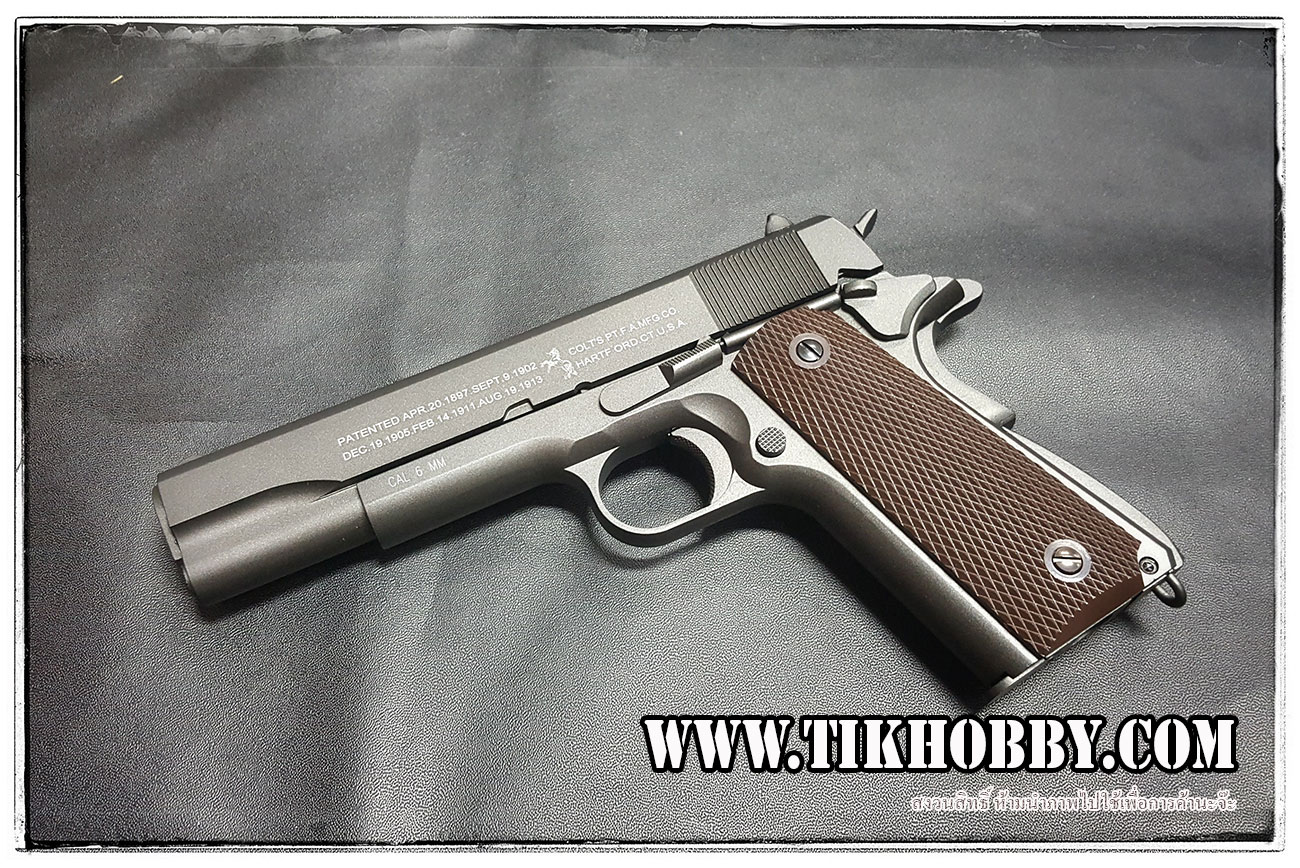gun: (129, 188, 1215, 702)
